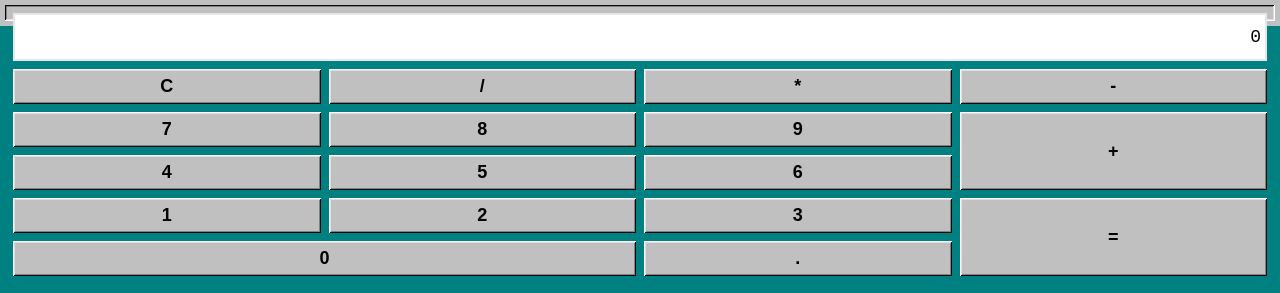
Calculator › updates display when numbers are clicked
Click the button "7" at (167, 130), box [13,112,320,147]
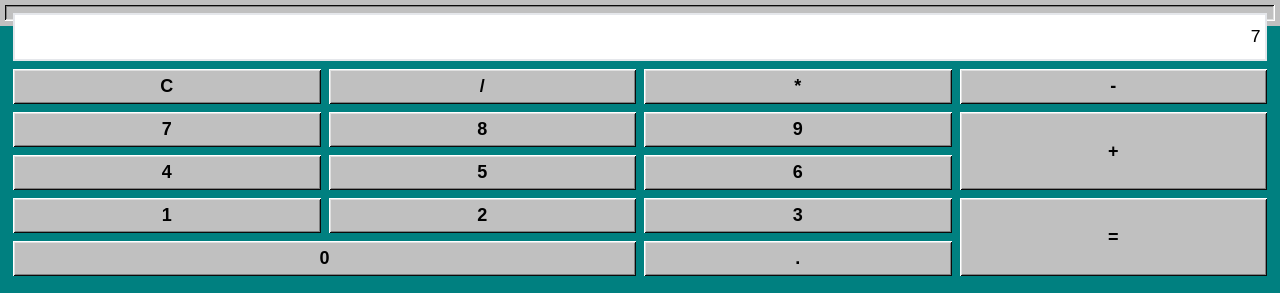
Click the button "8" at (482, 130), box [328,112,636,147]
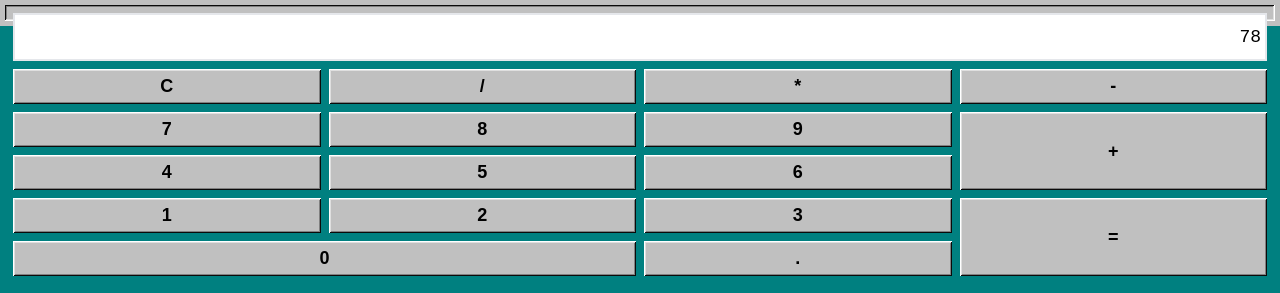
expect the text "78" is shown: met, box [13,13,1267,61]
